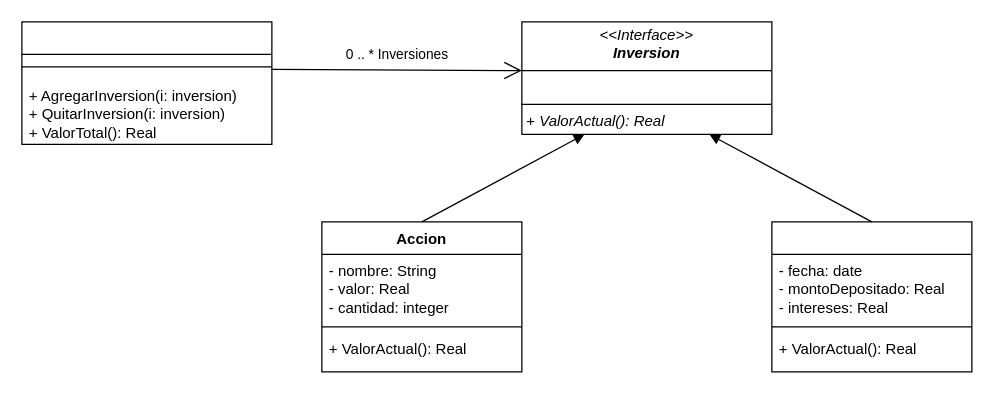
The diagram is 994 pixels wide and 398 high, and some of its shapes have lost their labels. Each missing label, with the box of its shape:
Inversor: (21, 21, 272, 144)
PlazoFijo: (771, 221, 972, 372)
